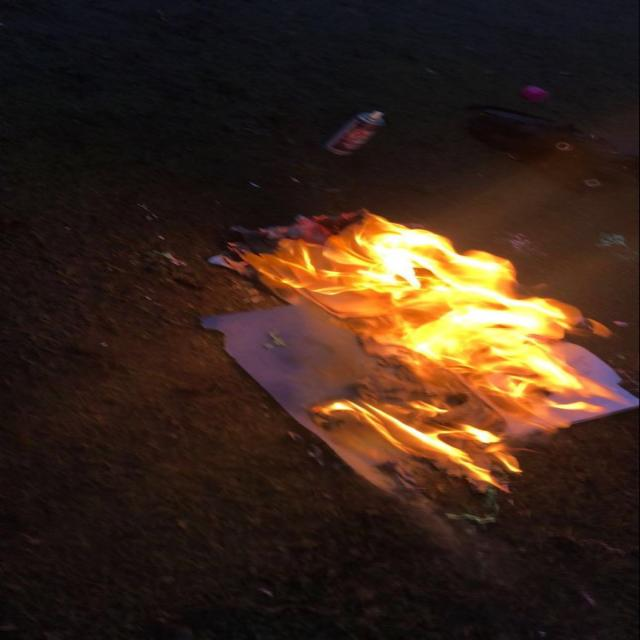fire: (215, 211, 628, 487)
